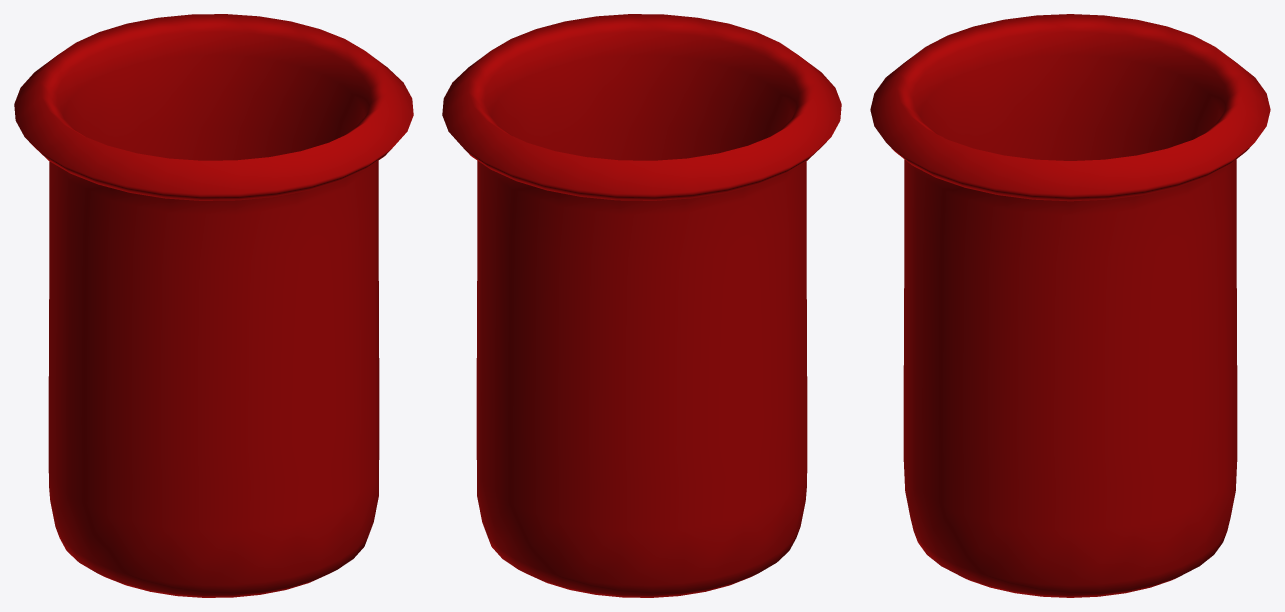
The model's file is BeakerXL.fbx.
3 renders of one model, left to right at view 1: azimuth 30°, elevation 25°; view 2: azimuth 150°, elevation 25°; view 3: azimuth 270°, elevation 25°, orthographic.
Parts seen in each view (by area): view 1: Beaker_XL; view 2: Beaker_XL; view 3: Beaker_XL.
Part boxes in pixels (bbox=[...]): Beaker_XL: bbox=[14, 14, 413, 597]; Beaker_XL: bbox=[442, 14, 841, 597]; Beaker_XL: bbox=[870, 14, 1270, 597].
Size of the model in its own units: 17.62 by 22.03 by 17.62.
